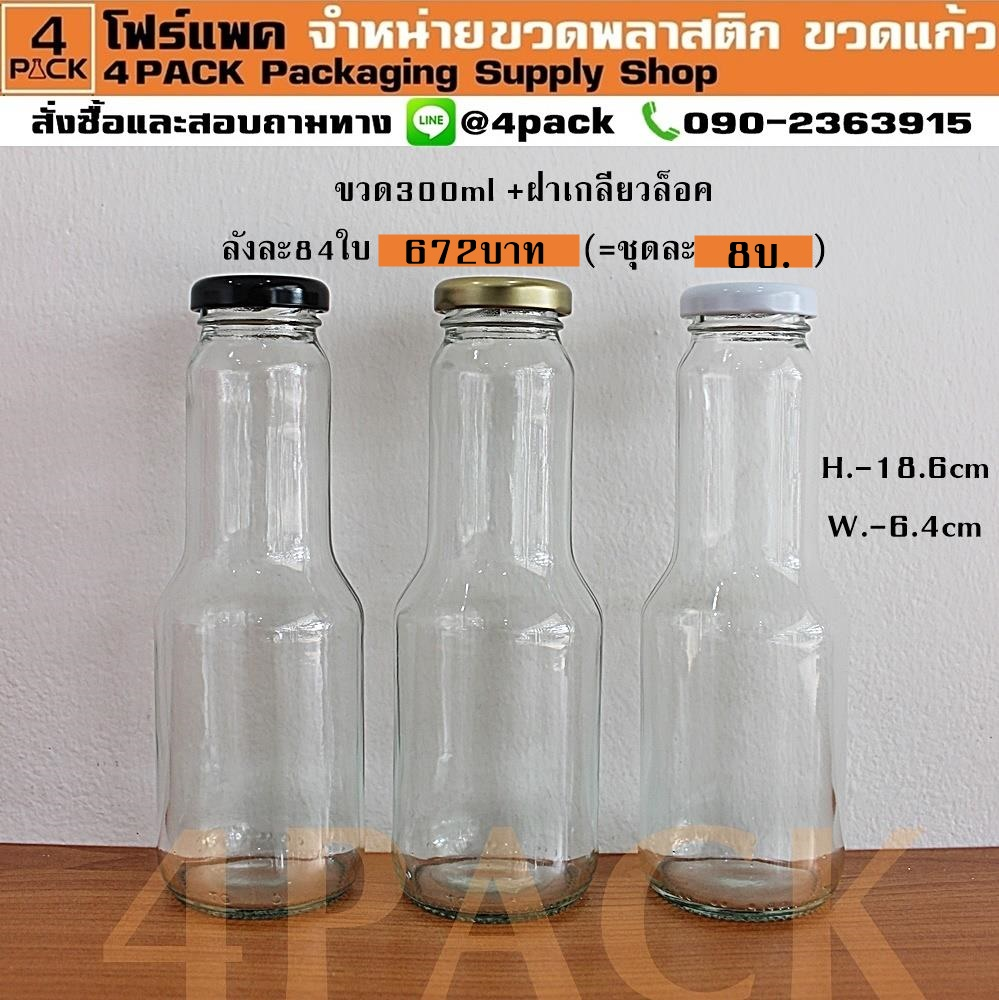glass_bottle: (629, 279, 860, 933), (388, 277, 616, 930), (145, 274, 373, 924)
